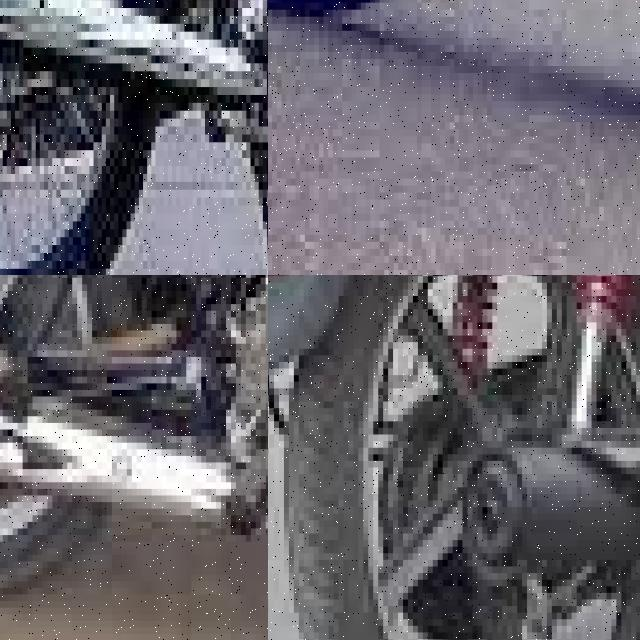bike: (268, 275, 640, 640), (0, 275, 268, 640), (0, 0, 268, 275), (268, 0, 640, 178)
